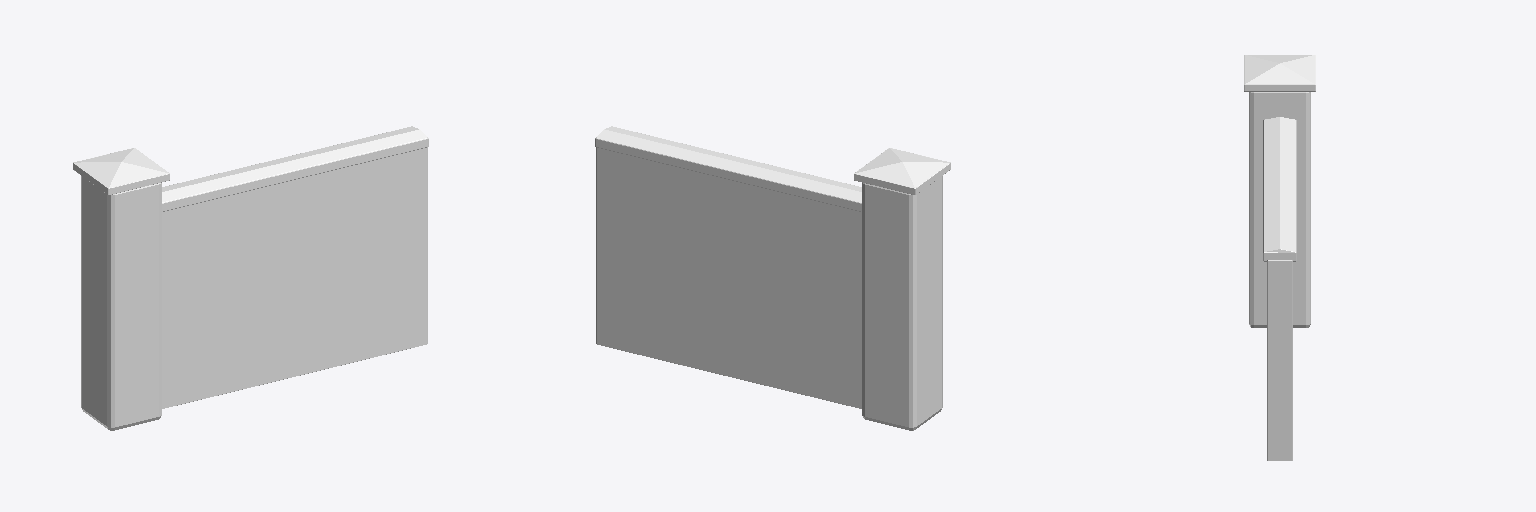
File: wall.obj
The picture shows the model from 3 angles: view 1: azimuth 30°, elevation 25°; view 2: azimuth 150°, elevation 25°; view 3: azimuth 270°, elevation 25°; orthographic projection.
Parts seen in each view (by area): view 1: span_cap1_Mesh.111; view 2: span_cap1_Mesh.111; view 3: span_cap1_Mesh.111.
Part boxes in pixels (bbox=[...]): span_cap1_Mesh.111: bbox=[73, 126, 428, 430]; span_cap1_Mesh.111: bbox=[595, 126, 950, 430]; span_cap1_Mesh.111: bbox=[1244, 55, 1315, 460].
Bounding box in the file's own units: 3.87 × 2.84 × 0.7225.